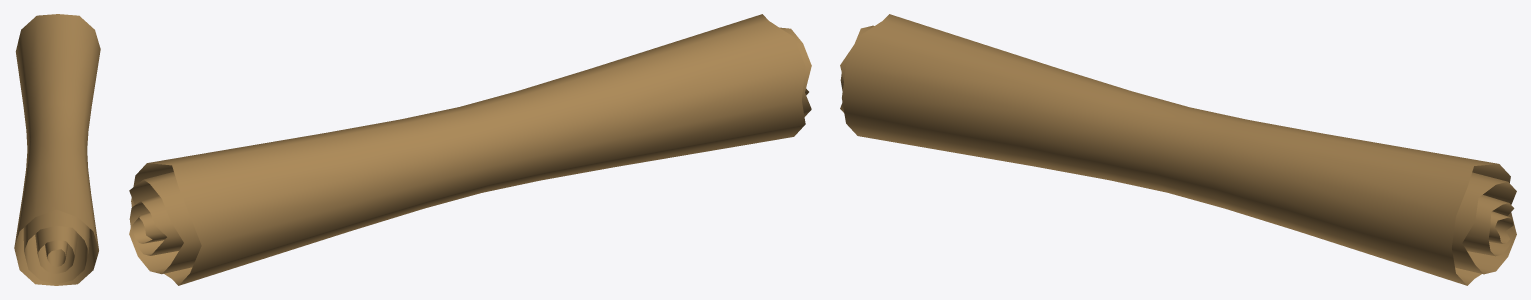
File: misc_scroll.fbx
3 views of the same model, side by side, from view 1: azimuth 30°, elevation 25°; view 2: azimuth 150°, elevation 25°; view 3: azimuth 270°, elevation 25° (orthographic). The views are drawn at different scales.
Parts seen in each view (by area): view 1: misc_scroll; view 2: misc_scroll; view 3: misc_scroll.
Part boxes in pixels (bbox=[...]): misc_scroll: bbox=[14, 14, 100, 285]; misc_scroll: bbox=[129, 14, 811, 285]; misc_scroll: bbox=[840, 14, 1516, 285].
Size of the model in its own units: 30.39 by 8.27 by 44.83.
